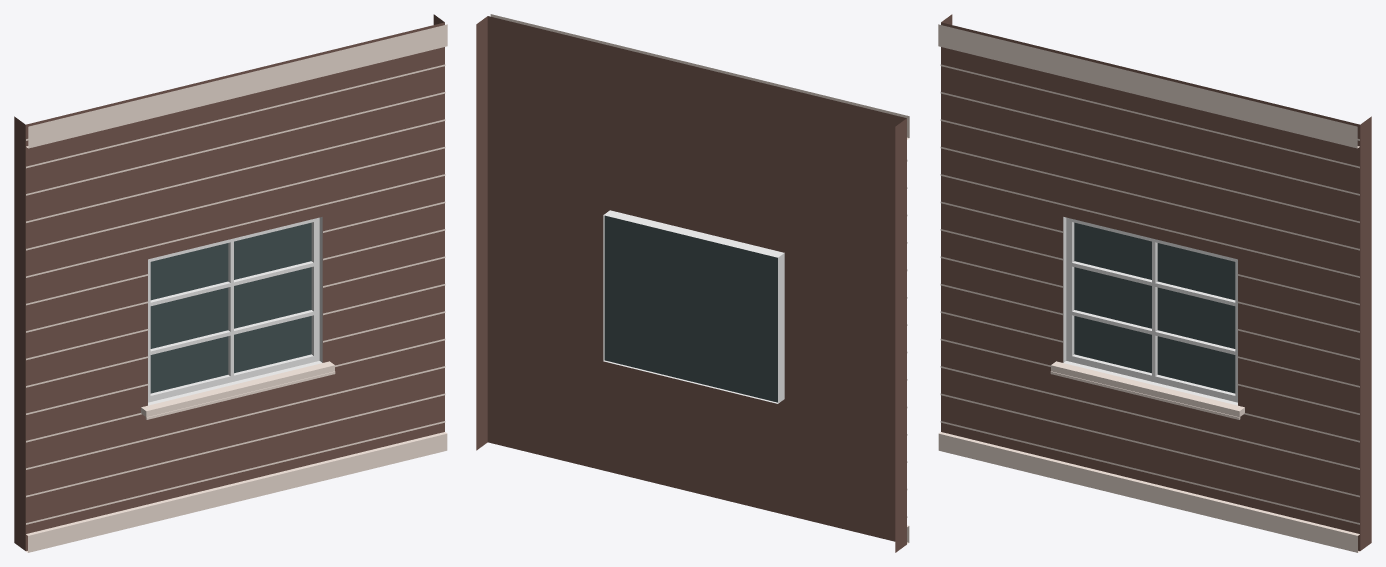
Rendered from top-stair3_close.fbx.
3 views of the same model, side by side, from view 1: azimuth 30°, elevation 25°; view 2: azimuth 150°, elevation 25°; view 3: azimuth 330°, elevation 25° (orthographic).
Visible parts, largest first — view 1: a2000s3/600/top-stair_close; view 2: a2000s3/600/top-stair_close; view 3: a2000s3/600/top-stair_close.
Part boxes in pixels (x1,y1,x2,y2): a2000s3/600/top-stair_close: (14, 14, 447, 552); a2000s3/600/top-stair_close: (476, 14, 909, 552); a2000s3/600/top-stair_close: (938, 14, 1371, 552).
Size of the model in its own units: 3.6 by 3.5 by 0.255.
